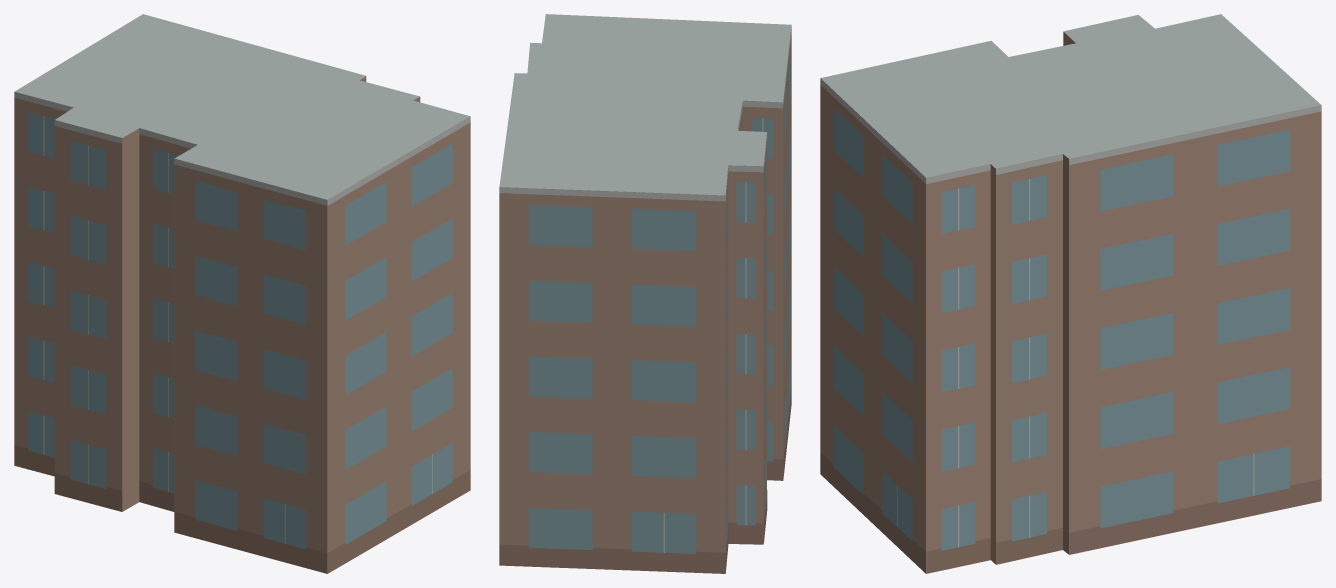
File: survey-upis-32699513.glb
The picture shows the model from 3 angles, left to right: view 1: azimuth 30°, elevation 25°; view 2: azimuth 150°, elevation 25°; view 3: azimuth 270°, elevation 25°; orthographic projection. The views are drawn at different scales.
Parts seen in each view (by area): view 1: survey-upis-32699513.tmp; view 2: survey-upis-32699513.tmp; view 3: survey-upis-32699513.tmp.
Part boxes in pixels (box(x1,y1,x2,y2)): survey-upis-32699513.tmp: box(14, 14, 470, 573); survey-upis-32699513.tmp: box(499, 14, 791, 573); survey-upis-32699513.tmp: box(820, 14, 1321, 573).
Size of the model in its own units: 13.54 by 15.25 by 17.5.
